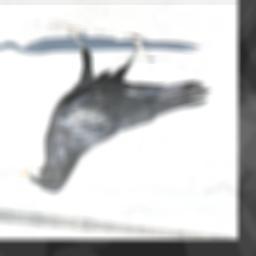Crow: (21, 20, 216, 208)
